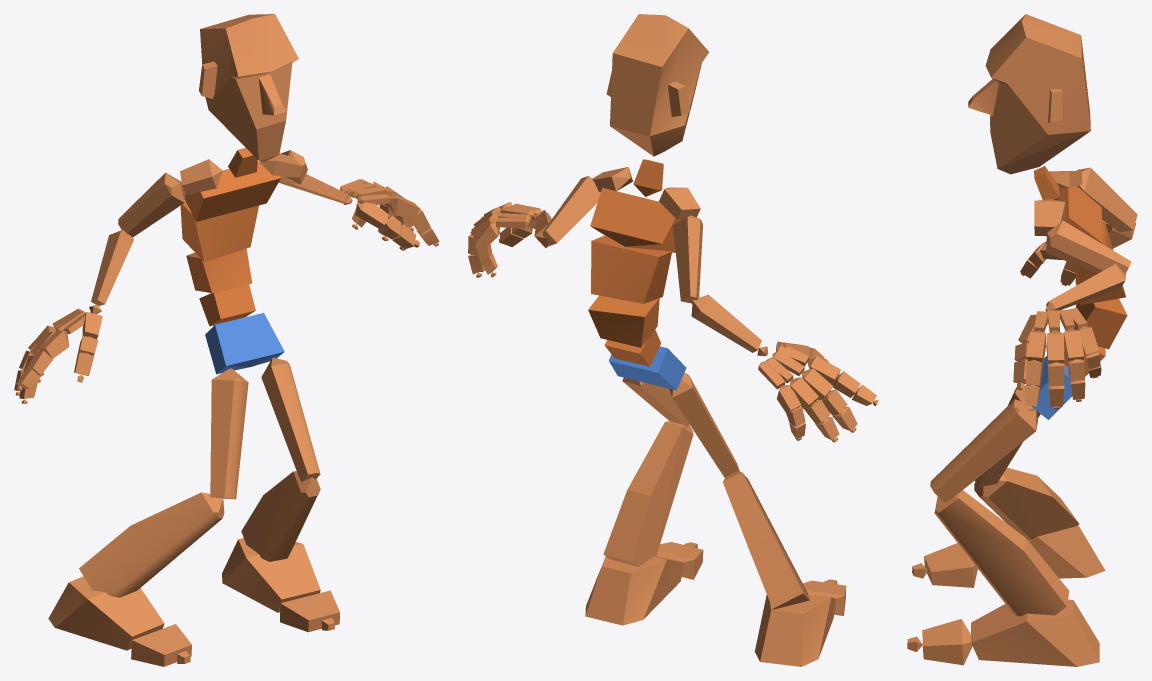
The model's file is prueba80.obj.
3 renders of one model, left to right at view 1: azimuth 30°, elevation 25°; view 2: azimuth 150°, elevation 25°; view 3: azimuth 270°, elevation 25°, orthographic. The views are drawn at different scales.
Parts seen in each view (by area): view 1: BOPED_Head, BOPED_R_leg, BOPED_R_foot, BOPED_R_foot01, BOPED_L_leg, BOPED_R_legup, BOPED_L_legup, Bone01, Bone04, Bone05, BOPED_R_arm_upper, Bone03 (+8 smaller); view 2: BOPED_Head, BOPED_L_leg, BOPED_R_foot01, BOPED_R_leg, BOPED_R_foot, Bone04, Bone05, Bone03, BOPED_R_legup, BOPED_R_arm_upper, Bone01, BOPED_L_arm_upper (+8 smaller); view 3: BOPED_Head, BOPED_L_leg, BOPED_R_foot01, BOPED_R_leg, BOPED_L_legup, BOPED_R_foot, BOPED_L_arm_upper, BOPED_R_foot_toe04, BOPED_R_foot_toe01, BOPED_R_arm_upper, Bone05, Bone03 (+15 smaller).
Part boxes in pixels (left/top/right/bottom): BOPED_Head: left=199, top=14, right=298, bottom=161; BOPED_R_leg: left=79, top=492, right=224, bottom=597; BOPED_R_foot: left=48, top=576, right=164, bottom=650; BOPED_R_foot01: left=222, top=538, right=320, bottom=612; BOPED_L_leg: left=241, top=471, right=320, bottom=561; BOPED_R_legup: left=210, top=368, right=248, bottom=499; BOPED_L_legup: left=261, top=357, right=320, bottom=481; Bone01: left=205, top=313, right=284, bottom=374; Bone04: left=180, top=201, right=258, bottom=262; Bone05: left=185, top=161, right=280, bottom=221; BOPED_R_arm_upper: left=118, top=172, right=185, bottom=237; Bone03: left=186, top=248, right=252, bottom=293; BOPED_Head: left=606, top=14, right=709, bottom=156; BOPED_L_leg: left=603, top=421, right=693, bottom=566; BOPED_R_foot01: left=585, top=556, right=684, bottom=625; BOPED_R_leg: left=723, top=471, right=809, bottom=609; BOPED_R_foot: left=754, top=594, right=835, bottom=666; Bone04: left=591, top=235, right=671, bottom=303; Bone05: left=590, top=187, right=681, bottom=252; Bone03: left=588, top=295, right=659, bottom=347; BOPED_R_legup: left=669, top=372, right=739, bottom=477; BOPED_R_arm_upper: left=673, top=215, right=702, bottom=303; Bone01: left=609, top=346, right=686, bottom=390; BOPED_L_arm_upper: left=542, top=176, right=600, bottom=245; BOPED_Head: left=968, top=14, right=1090, bottom=174; BOPED_L_leg: left=934, top=490, right=1069, bottom=616; BOPED_R_foot01: left=971, top=599, right=1099, bottom=666; BOPED_R_leg: left=974, top=467, right=1079, bottom=540; BOPED_L_legup: left=930, top=399, right=1037, bottom=502; BOPED_R_foot: left=1004, top=521, right=1105, bottom=578; BOPED_L_arm_upper: left=1046, top=220, right=1131, bottom=274; BOPED_R_foot_toe04: left=922, top=619, right=972, bottom=665; BOPED_R_foot_toe01: left=924, top=543, right=977, bottom=587; BOPED_R_arm_upper: left=1076, top=167, right=1137, bottom=232; Bone05: left=1058, top=186, right=1102, bottom=264; Bone03: left=1074, top=298, right=1127, bottom=349.
Bounding box in the file's own units: 130 × 175 × 59.1.
